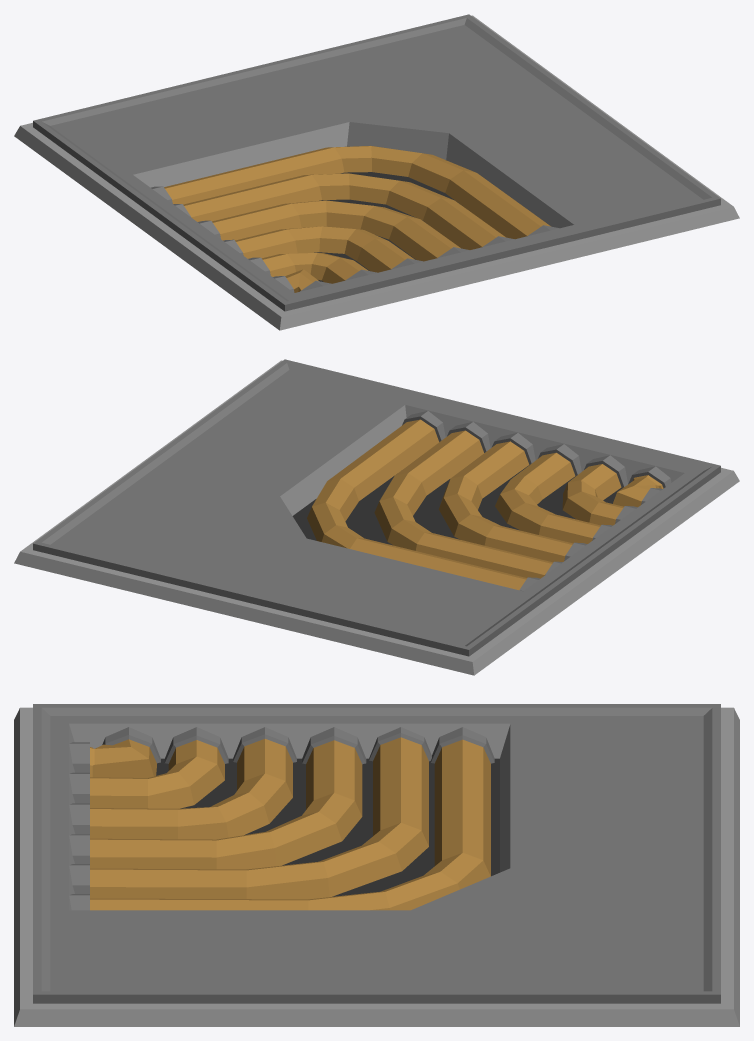
The model's file is RoofTile_Corner_Pipes.glb.
The picture shows the model from 3 angles, top to bottom: view 1: azimuth 30°, elevation 25°; view 2: azimuth 150°, elevation 25°; view 3: azimuth 270°, elevation 25°; orthographic projection. The views are drawn at different scales.
Visible parts, largest first — view 1: RoofTile_Corner_Pipes; view 2: RoofTile_Corner_Pipes; view 3: RoofTile_Corner_Pipes.
Part boxes in pixels (bbox=[...]): RoofTile_Corner_Pipes: bbox=[14, 14, 739, 330]; RoofTile_Corner_Pipes: bbox=[14, 359, 739, 675]; RoofTile_Corner_Pipes: bbox=[14, 704, 739, 1026].
Size of the model in its own units: 2 by 0.1147 by 2.
